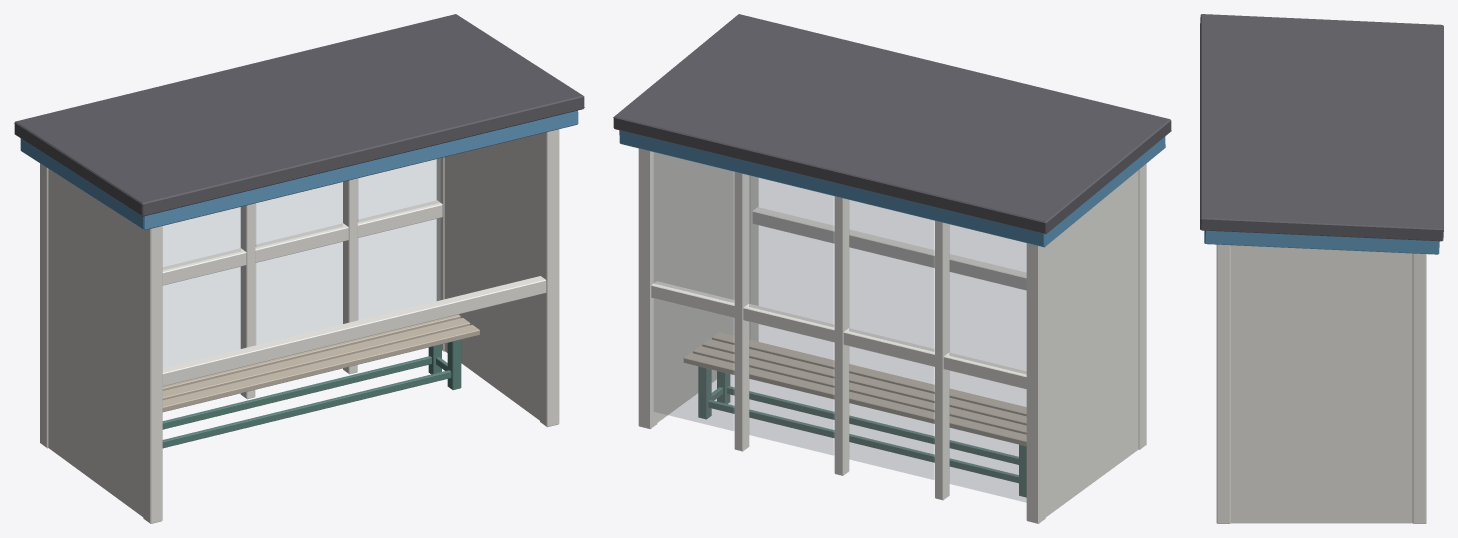
The model's file is amusement-arcade-and-seaside-pier-wind-shelter-8947bdb9__35401.glb.
3 views of the same model, side by side, from view 1: azimuth 30°, elevation 25°; view 2: azimuth 150°, elevation 25°; view 3: azimuth 270°, elevation 25° (orthographic). The views are drawn at different scales.
Parts seen in each view (by area): view 1: wind-shelter; view 2: wind-shelter; view 3: wind-shelter.
Part boxes in pixels (<box>): wind-shelter: <box>14,14,584,523</box>; wind-shelter: <box>613,14,1171,523</box>; wind-shelter: <box>1200,14,1443,523</box>.
Size of the model in its own units: 3.46 by 2.47 by 1.74.
